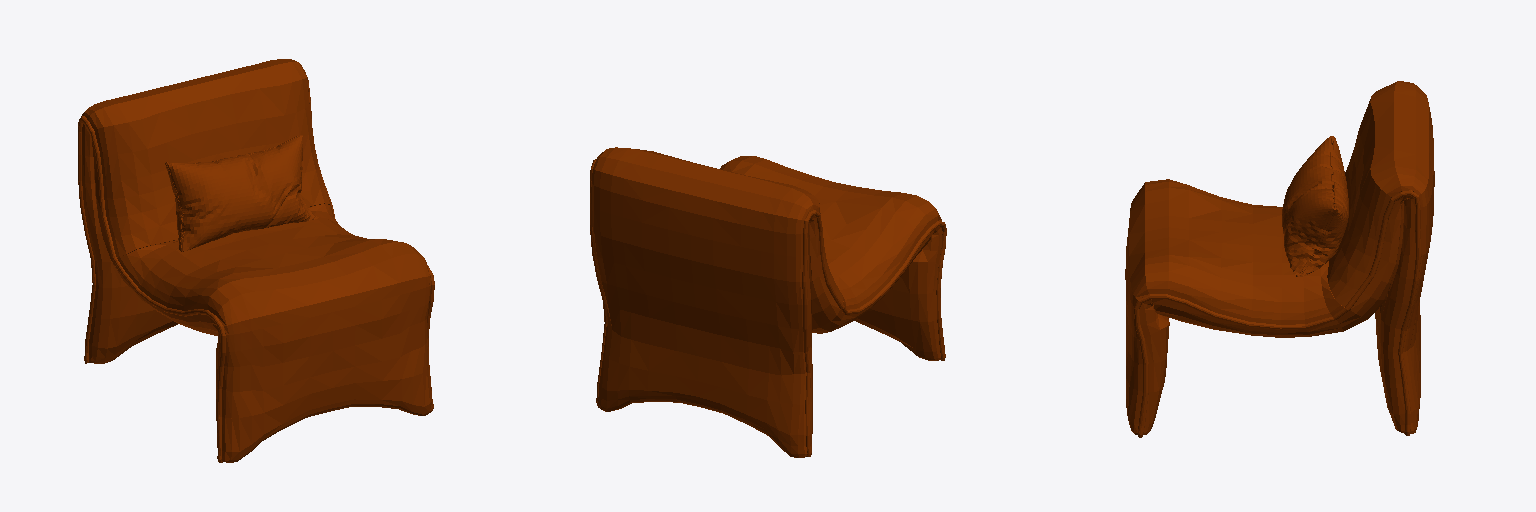
The picture shows the model from 3 angles: view 1: azimuth 30°, elevation 25°; view 2: azimuth 150°, elevation 25°; view 3: azimuth 270°, elevation 25°; orthographic projection.
Parts seen in each view (by area): view 1: Chair, Pillow; view 2: Chair; view 3: Chair, Pillow.
Part boxes in pixels (x1,y1,x2,y2): Chair: (78,59,434,462); Pillow: (165,135,318,251); Chair: (590,147,946,457); Chair: (1125,81,1434,437); Pillow: (1282,136,1348,276).
Bounding box in the file's own units: 673 × 762 × 820.